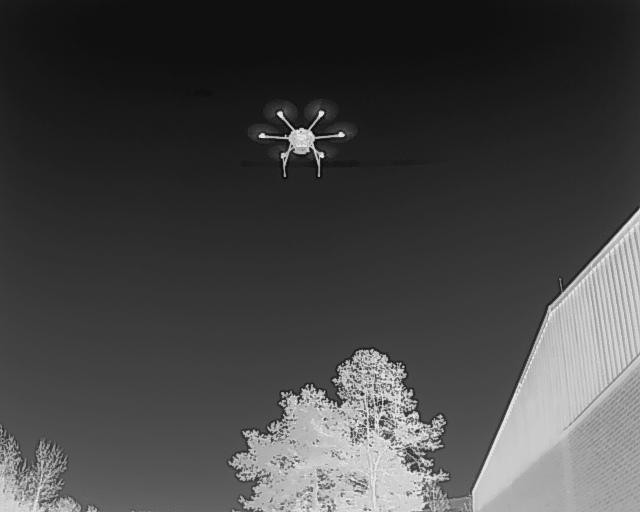drone: (247, 98, 360, 184)
